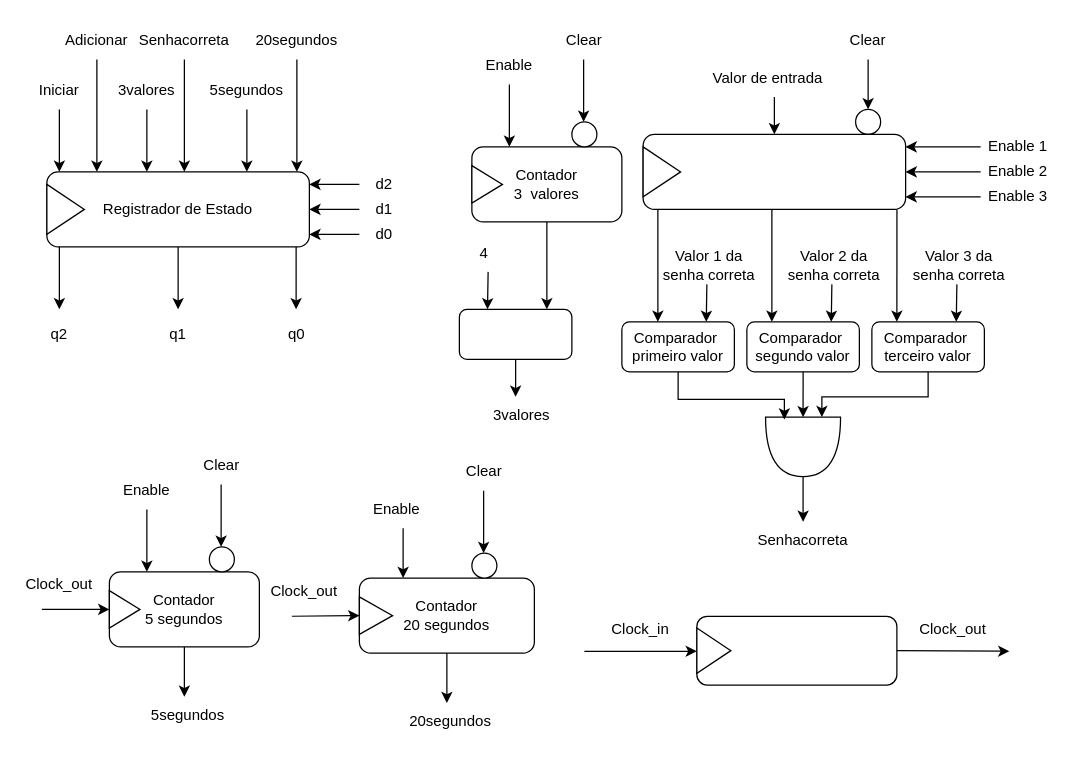
Image size: 1076x761. Some labels were removed from this diagram. Here are the shapes that lost their labels. From the top down, the box of each, then its label:
(642, 133, 906, 209): Registradores da senha tentada(3 de 6 bits)
(458, 308, 572, 359): Comparador 3valores
(696, 615, 897, 685): Divisor de clock
